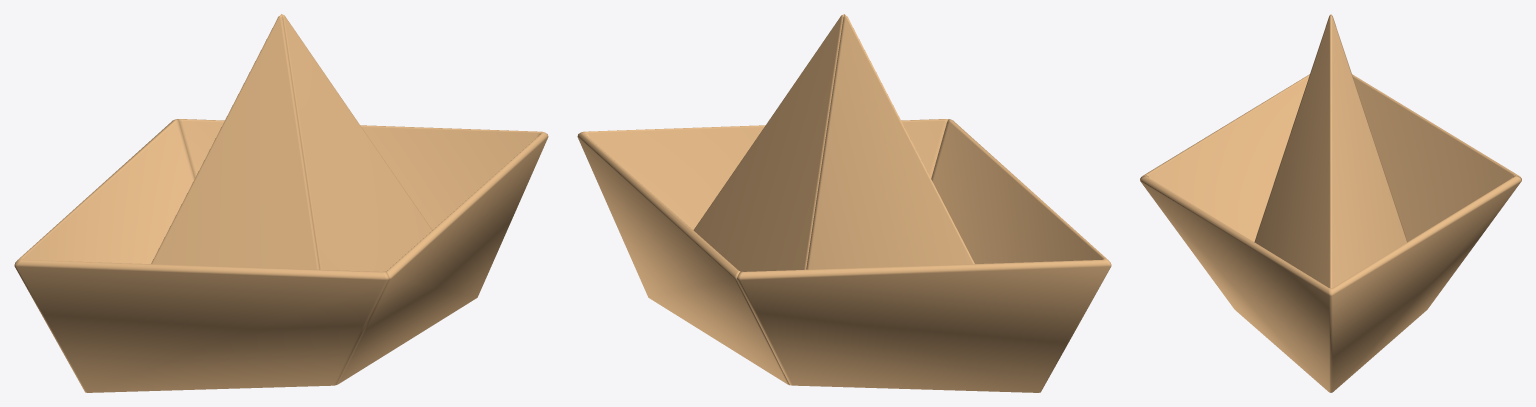
The model's file is SM_PaperPlane_01a.fbx.
The picture shows the model from 3 angles, left to right: view 1: azimuth 30°, elevation 25°; view 2: azimuth 150°, elevation 25°; view 3: azimuth 270°, elevation 25°; orthographic projection. The views are drawn at different scales.
Parts seen in each view (by area): view 1: PaperPlane_02, PaperPlane_01; view 2: PaperPlane_02, PaperPlane_01; view 3: PaperPlane_01, PaperPlane_02.
Part boxes in pixels (bbox=[...]): PaperPlane_02: bbox=[14, 14, 388, 392]; PaperPlane_01: bbox=[177, 14, 548, 384]; PaperPlane_02: bbox=[737, 14, 1111, 392]; PaperPlane_01: bbox=[577, 14, 948, 385]; PaperPlane_01: bbox=[1140, 14, 1521, 392]; PaperPlane_02: bbox=[1141, 15, 1520, 241].
Bounding box in the file's own units: 23.28 × 13.82 × 16.23.
